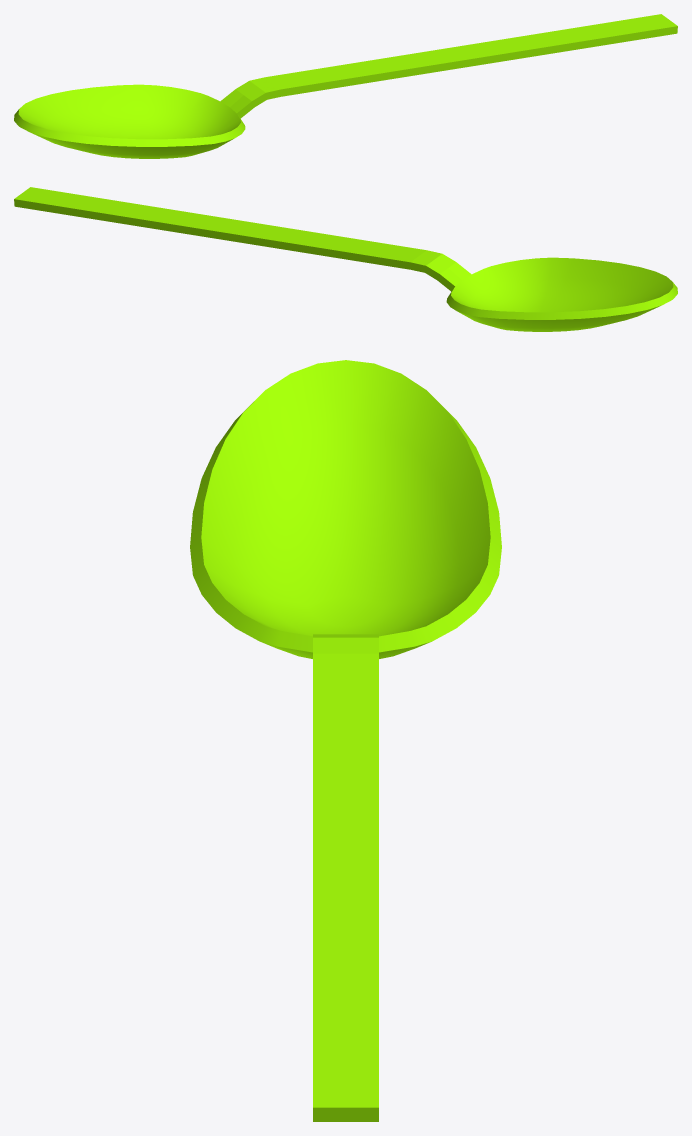
Rendered from Spoon.fbx.
3 views of the same model, one above another, from view 1: azimuth 30°, elevation 25°; view 2: azimuth 150°, elevation 25°; view 3: azimuth 270°, elevation 25° (orthographic). The views are drawn at different scales.
Parts seen in each view (by area): view 1: Spoon; view 2: Spoon; view 3: Spoon.
Part boxes in pixels (box(x1,y1,x2,y2)): Spoon: box(14, 14, 677, 158); Spoon: box(14, 187, 677, 331); Spoon: box(190, 360, 501, 1121).
Size of the model in its own units: 37.98 by 3.67 by 7.89.
